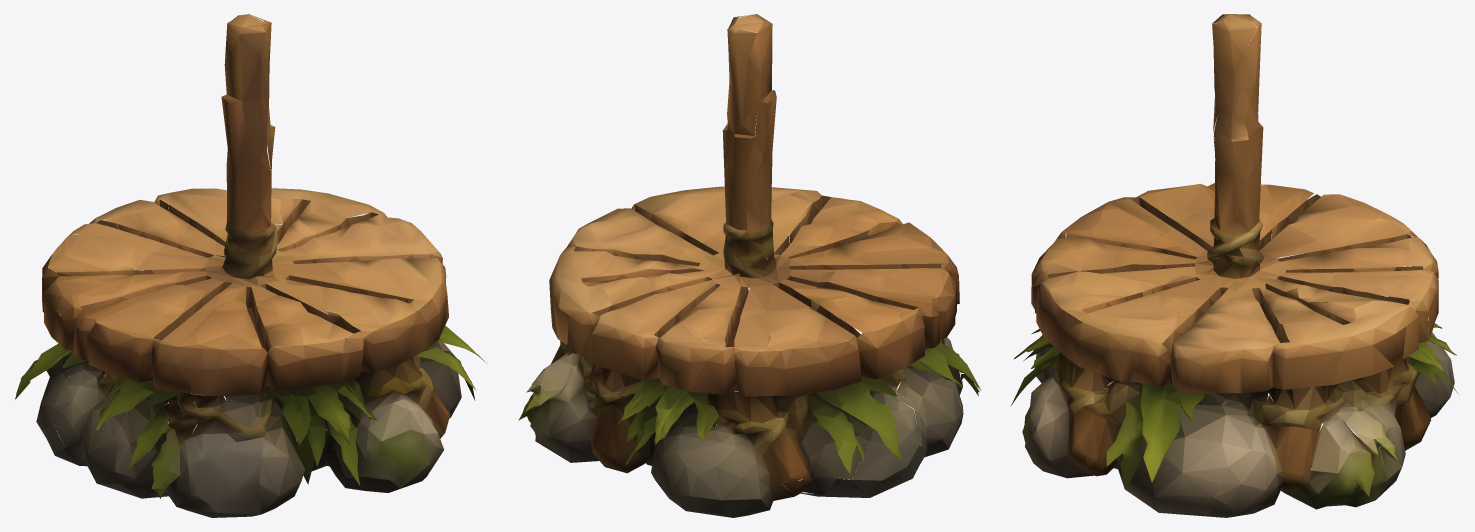
Rendered from building-sunDial.glb.
3 views of the same model, side by side, from view 1: azimuth 30°, elevation 25°; view 2: azimuth 150°, elevation 25°; view 3: azimuth 270°, elevation 25° (orthographic).
Visible parts, largest first — view 1: 0_sunDial; view 2: 0_sunDial; view 3: 0_sunDial.
Part boxes in pixels (x1,y1,x2,y2): 0_sunDial: (15, 14, 486, 517); 0_sunDial: (518, 14, 981, 517); 0_sunDial: (1010, 14, 1457, 517).
Bounding box in the file's own units: 1.48 × 1.5 × 1.45.
